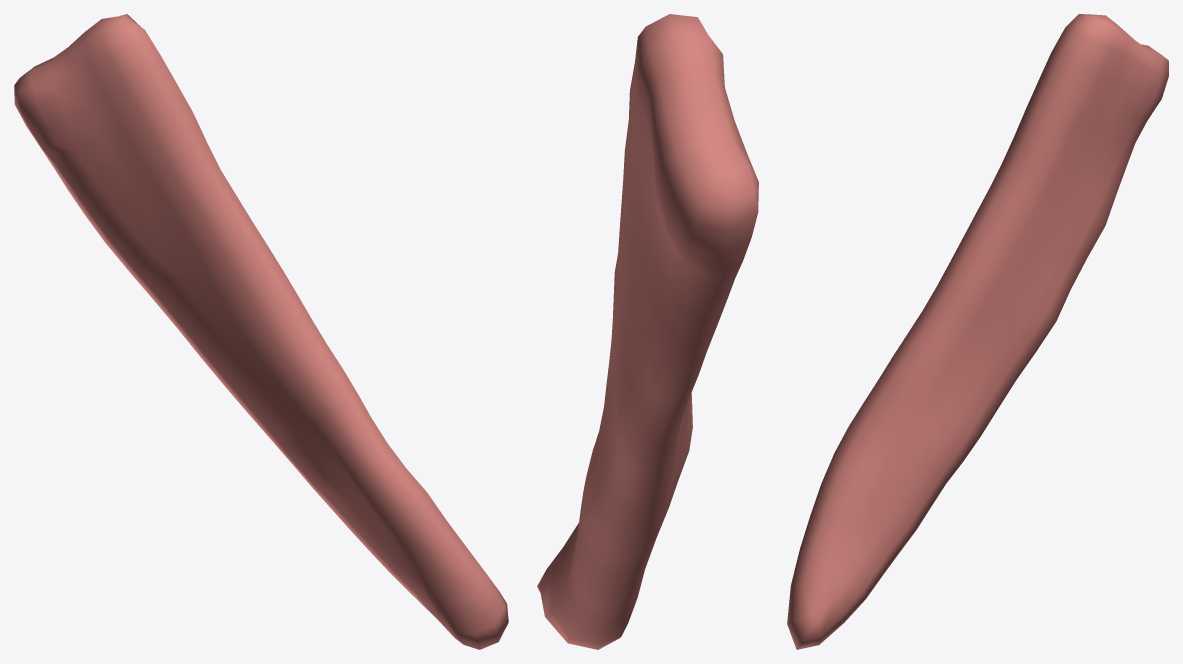
The picture shows the model from 3 angles, left to right: view 1: azimuth 30°, elevation 25°; view 2: azimuth 150°, elevation 25°; view 3: azimuth 270°, elevation 25°; orthographic projection. The views are drawn at different scales.
Parts seen in each view (by area): view 1: ZA_33578d63bfa1b1b3; view 2: ZA_33578d63bfa1b1b3; view 3: ZA_33578d63bfa1b1b3.
Part boxes in pixels (left/top/right/bottom): ZA_33578d63bfa1b1b3: left=14, top=14, right=508, bottom=649; ZA_33578d63bfa1b1b3: left=537, top=14, right=758, bottom=649; ZA_33578d63bfa1b1b3: left=787, top=14, right=1168, bottom=649.
Size of the model in its own units: 0.0285 by 0.0492 by 0.0317.
